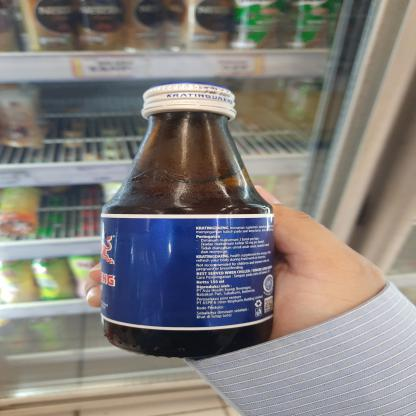glass: (92, 80, 278, 358)
